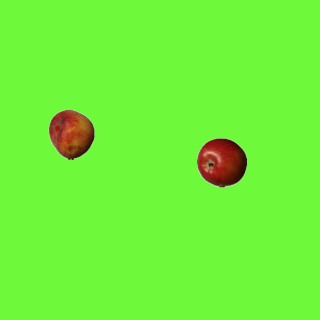Apple Braeburn: (196, 137, 246, 187)
Peach: (46, 109, 96, 159)
